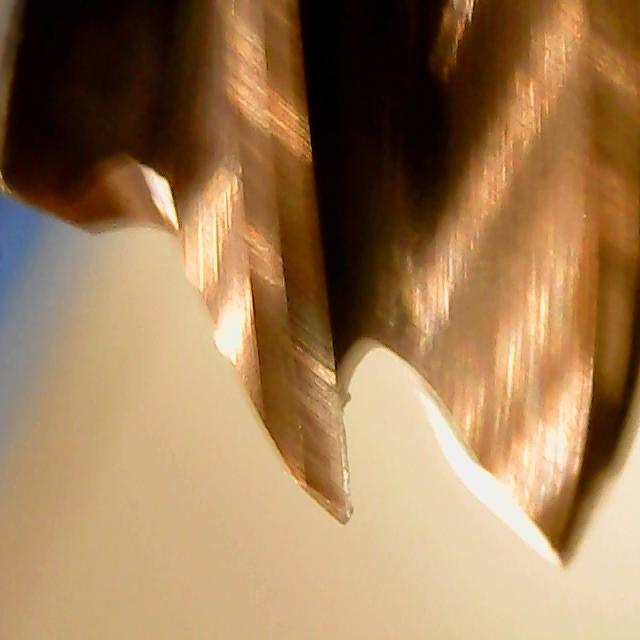Tool-wear-class-1: (228, 272, 356, 528)
